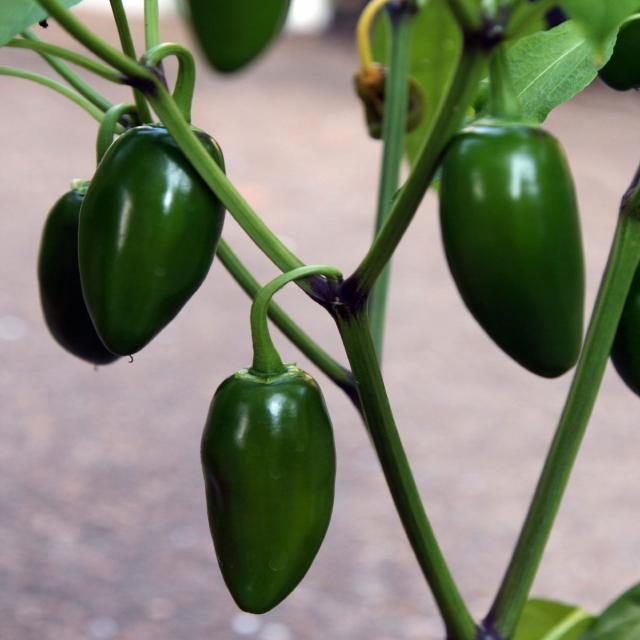aji: (440, 124, 609, 390), (208, 361, 341, 608), (102, 125, 224, 358)
